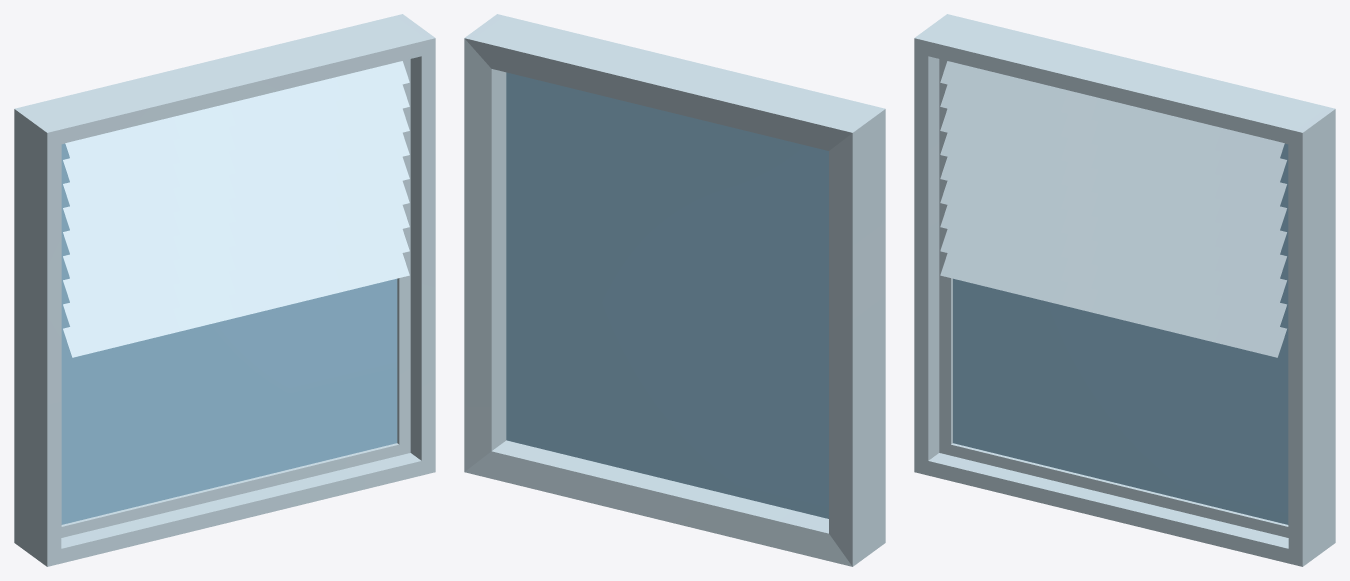
File: window_029.fbx
3 views of the same model, side by side, from view 1: azimuth 30°, elevation 25°; view 2: azimuth 150°, elevation 25°; view 3: azimuth 330°, elevation 25° (orthographic).
Visible parts, largest first — view 1: window_029; view 2: window_029; view 3: window_029.
Part boxes in pixels (x1,y1,x2,y2): window_029: (14,14,435,566); window_029: (464,14,885,566); window_029: (914,14,1335,566).
Bounding box in the file's own units: 176 × 25.93 × 188.
